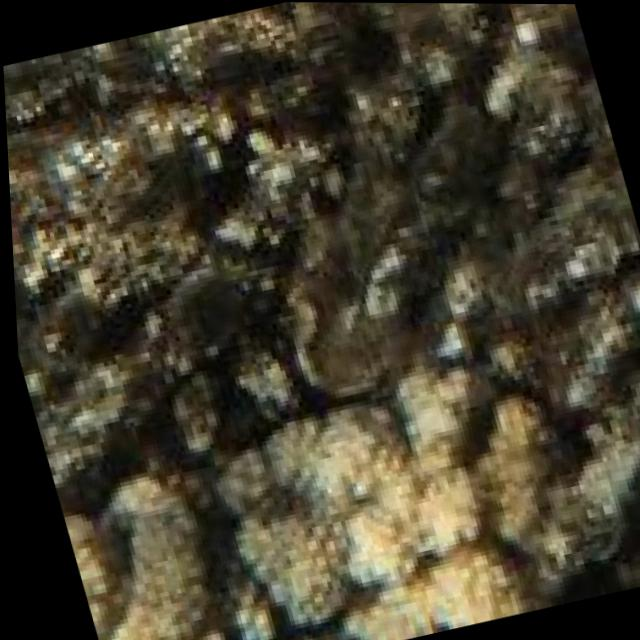Bleached Coral: (43, 361, 618, 640)
Dead Coral: (0, 0, 640, 477)
